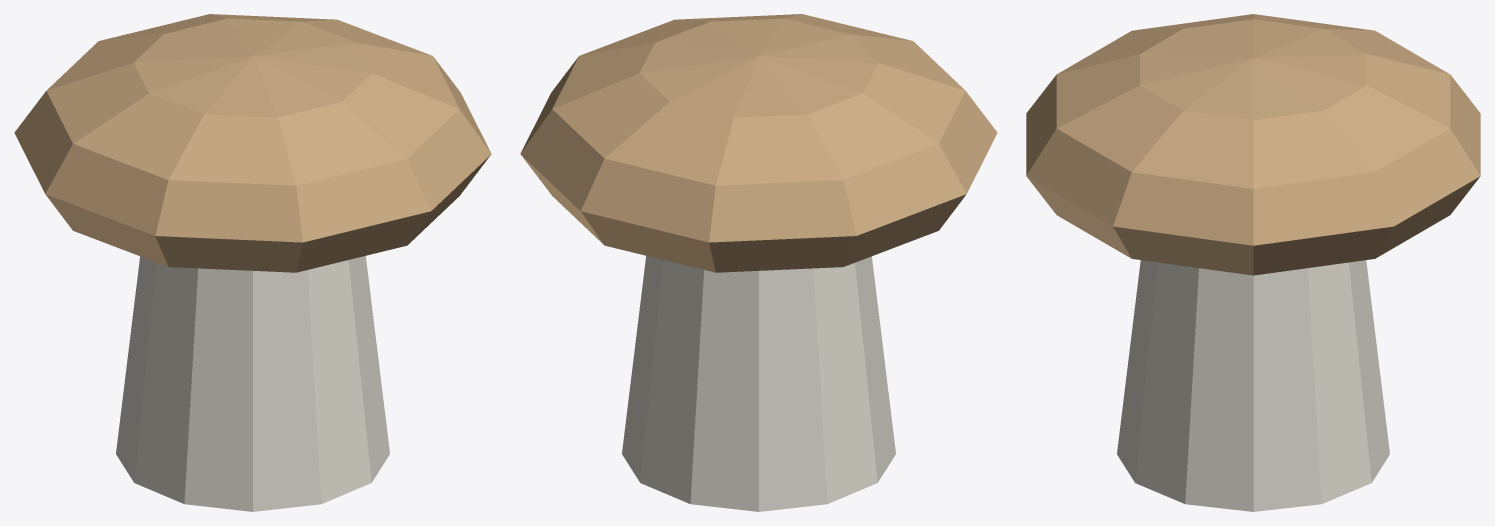
Rendered from supermarket-operations-mushroom-e051cdc5__26929.glb.
3 renders of one model, left to right at view 1: azimuth 30°, elevation 25°; view 2: azimuth 150°, elevation 25°; view 3: azimuth 270°, elevation 25°, orthographic.
Visible parts, largest first — view 1: mushroom; view 2: mushroom; view 3: mushroom.
Boxes of the visible parts, x1=… form: mushroom: x1=14, y1=14, x2=491, y2=511; mushroom: x1=520, y1=14, x2=997, y2=511; mushroom: x1=1026, y1=14, x2=1480, y2=511.
Size of the model in its own units: 0.07 by 0.064 by 0.0666.
